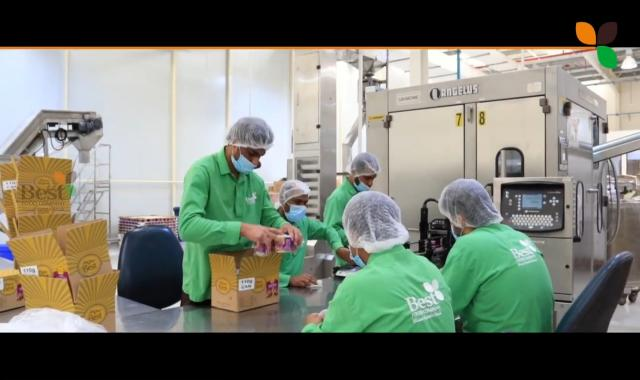hairnet: (342, 192, 409, 255), (439, 174, 502, 229), (224, 114, 274, 153), (276, 179, 312, 209), (348, 150, 377, 186)
